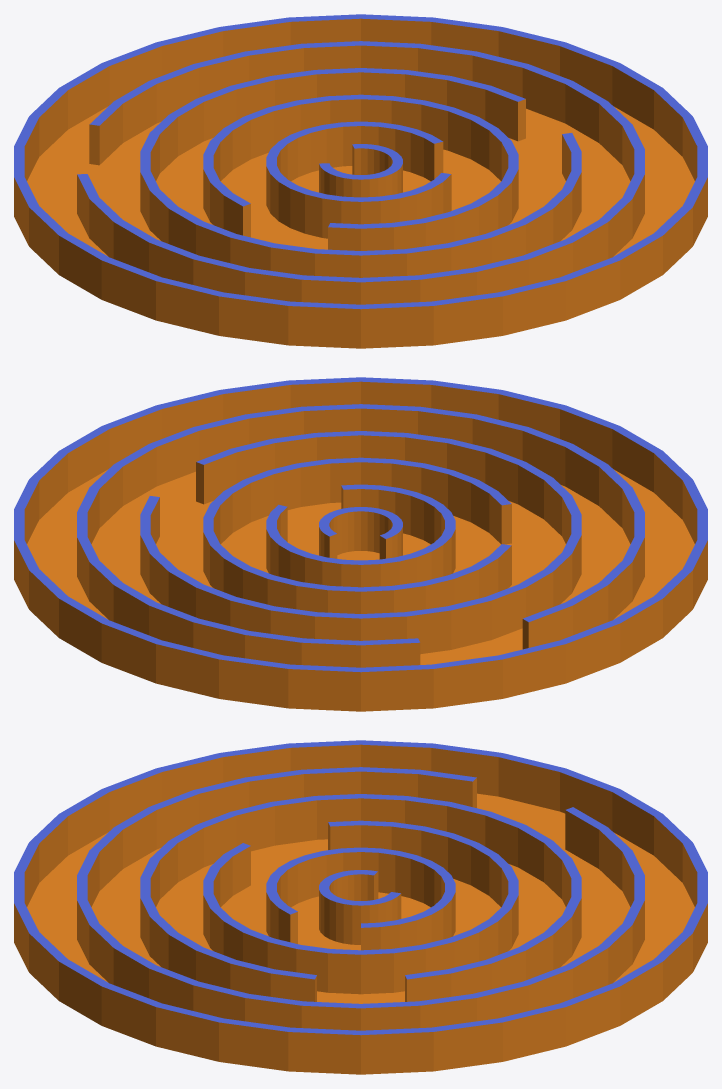
File: Maze Level 3.fbx
3 views of the same model, one above another, from view 1: azimuth 30°, elevation 25°; view 2: azimuth 150°, elevation 25°; view 3: azimuth 270°, elevation 25° (orthographic).
Parts seen in each view (by area): view 1: Vert; view 2: Vert; view 3: Vert.
Part boxes in pixels (x1,y1,x2,y2): Vert: [14, 14, 707, 348]; Vert: [14, 377, 707, 711]; Vert: [14, 740, 707, 1074].
Bounding box in the file's own units: 480 × 30 × 477.
